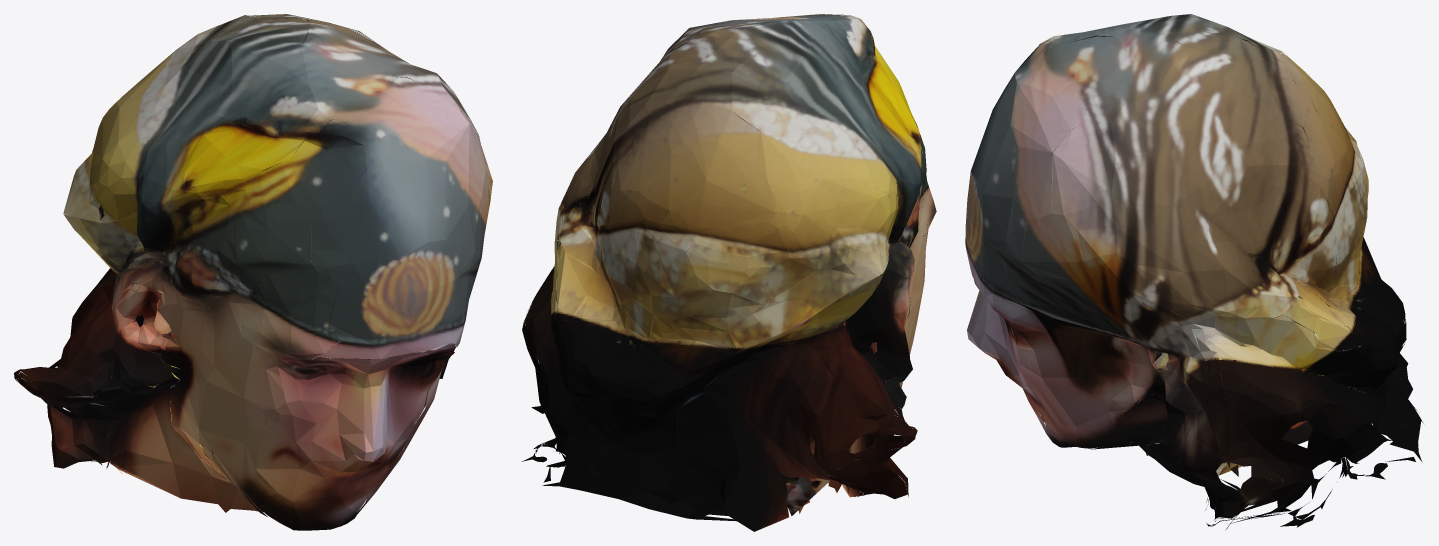
Rendered from jacknelhead.glb.
3 renders of one model, left to right at view 1: azimuth 30°, elevation 25°; view 2: azimuth 150°, elevation 25°; view 3: azimuth 270°, elevation 25°, orthographic. The views are drawn at different scales.
Visible parts, largest first — view 1: world; view 2: world; view 3: world.
Part boxes in pixels (x1=…): world: x1=14, y1=14, x2=492, y2=530; world: x1=522, y1=14, x2=936, y2=531; world: x1=965, y1=14, x2=1423, y2=530.
Size of the model in its own units: 0.6319 by 0.6959 by 0.6237.
1 material, 1 textured.
